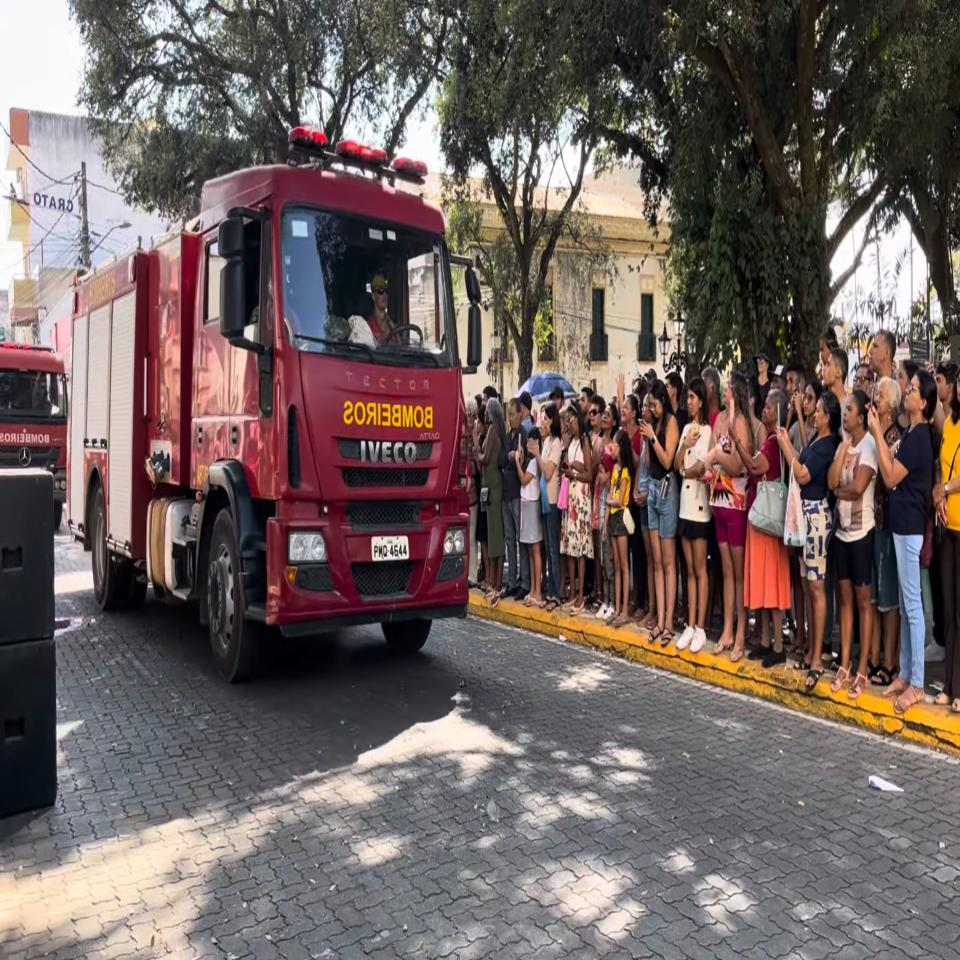viatura: (65, 121, 484, 686)
